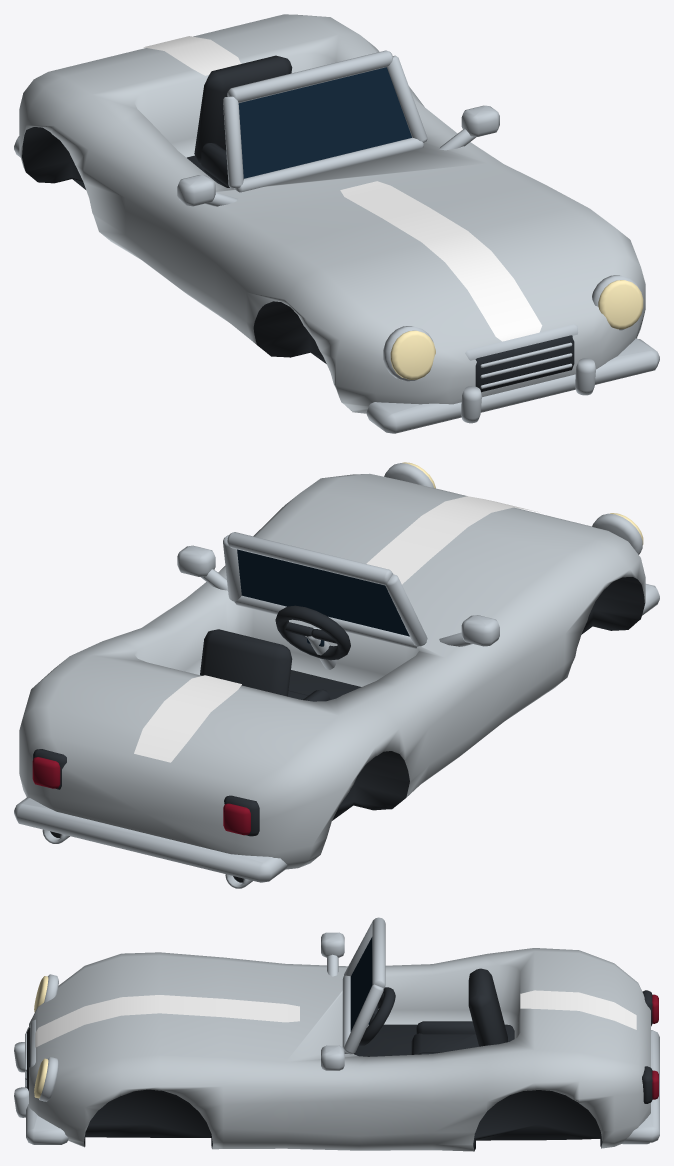
Rendered from auto-clasico.glb.
3 renders of one model, top to bottom at view 1: azimuth 30°, elevation 25°; view 2: azimuth 150°, elevation 25°; view 3: azimuth 270°, elevation 25°, orthographic. The views are drawn at different scales.
Visible parts, largest first — view 1: auto-clasico; view 2: auto-clasico; view 3: auto-clasico.
Boxes of the visible parts, x1=… form: auto-clasico: x1=14, y1=14, x2=659, y2=433; auto-clasico: x1=14, y1=462, x2=659, y2=888; auto-clasico: x1=14, y1=917, x2=659, y2=1151.
Size of the model in its own units: 1.94 by 1.11 by 4.05.
